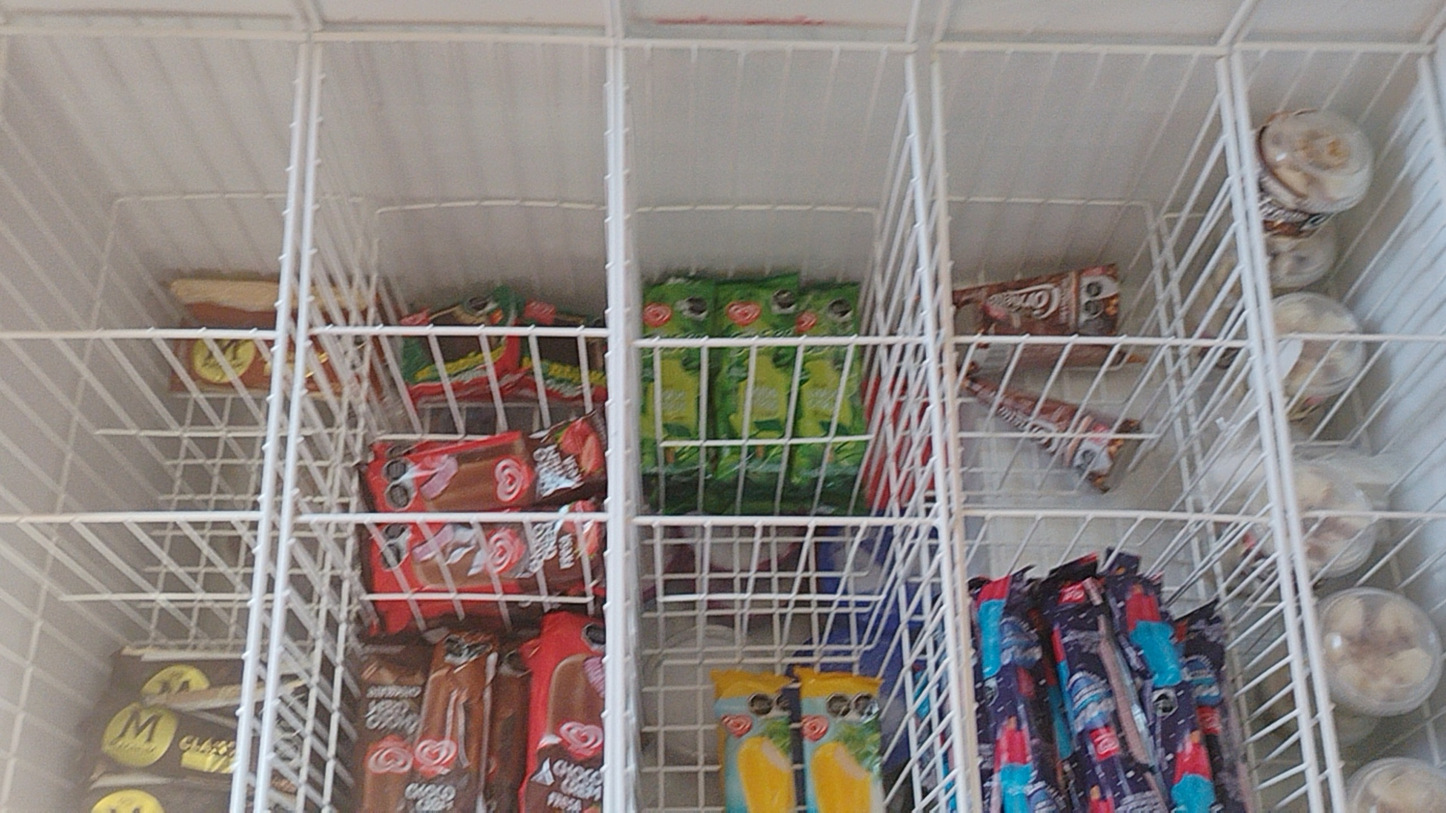rejilla: (1229, 54, 1336, 786), (1220, 59, 1322, 812), (232, 45, 307, 813), (255, 44, 320, 812), (908, 54, 966, 812), (934, 63, 980, 813), (605, 51, 615, 812), (615, 52, 623, 812), (961, 511, 1275, 522), (2, 28, 304, 38), (316, 35, 611, 44), (936, 44, 1226, 53), (623, 41, 910, 49), (954, 338, 1252, 345), (292, 515, 604, 520), (2, 514, 261, 520), (2, 333, 278, 338), (626, 519, 939, 523), (305, 331, 606, 335), (1239, 45, 1432, 50), (627, 338, 925, 341), (1277, 335, 1444, 340), (1300, 512, 1444, 517)
